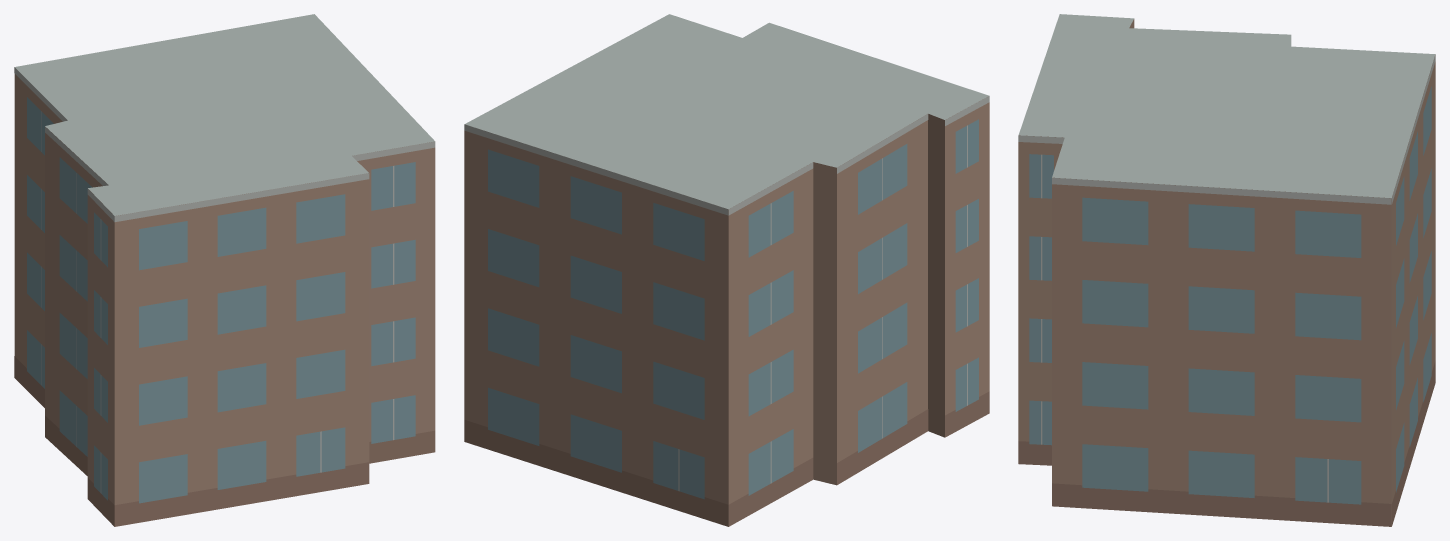
Rendered from survey-upis-32592845.glb.
3 renders of one model, left to right at view 1: azimuth 30°, elevation 25°; view 2: azimuth 150°, elevation 25°; view 3: azimuth 270°, elevation 25°, orthographic. The views are drawn at different scales.
Parts seen in each view (by area): view 1: survey-upis-32592845.tmp; view 2: survey-upis-32592845.tmp; view 3: survey-upis-32592845.tmp.
Boxes of the visible parts, x1,y1,x2,y2 form: survey-upis-32592845.tmp: [14, 14, 435, 526]; survey-upis-32592845.tmp: [464, 14, 989, 526]; survey-upis-32592845.tmp: [1018, 14, 1435, 526].
Bounding box in the file's own units: 14.67 × 12.2 × 14.04.
